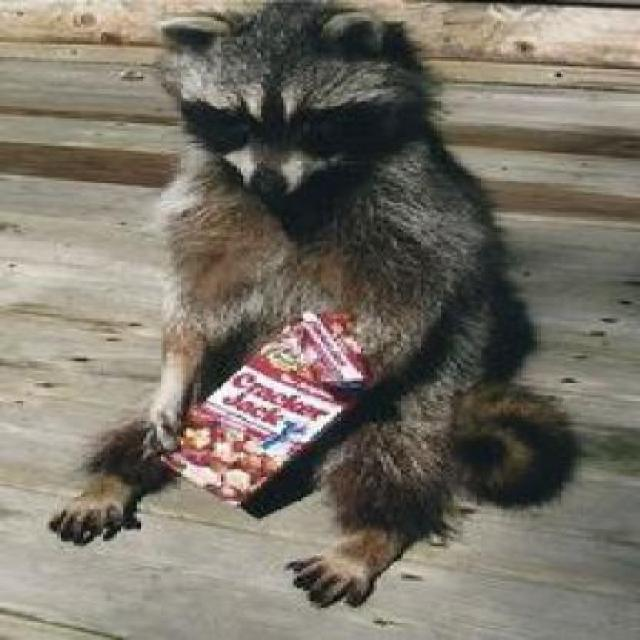raccon: (44, 0, 581, 613)
